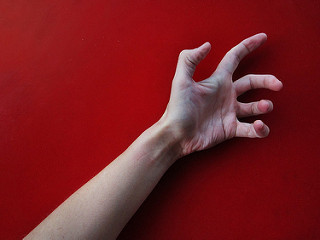palm: (183, 85, 244, 145)
